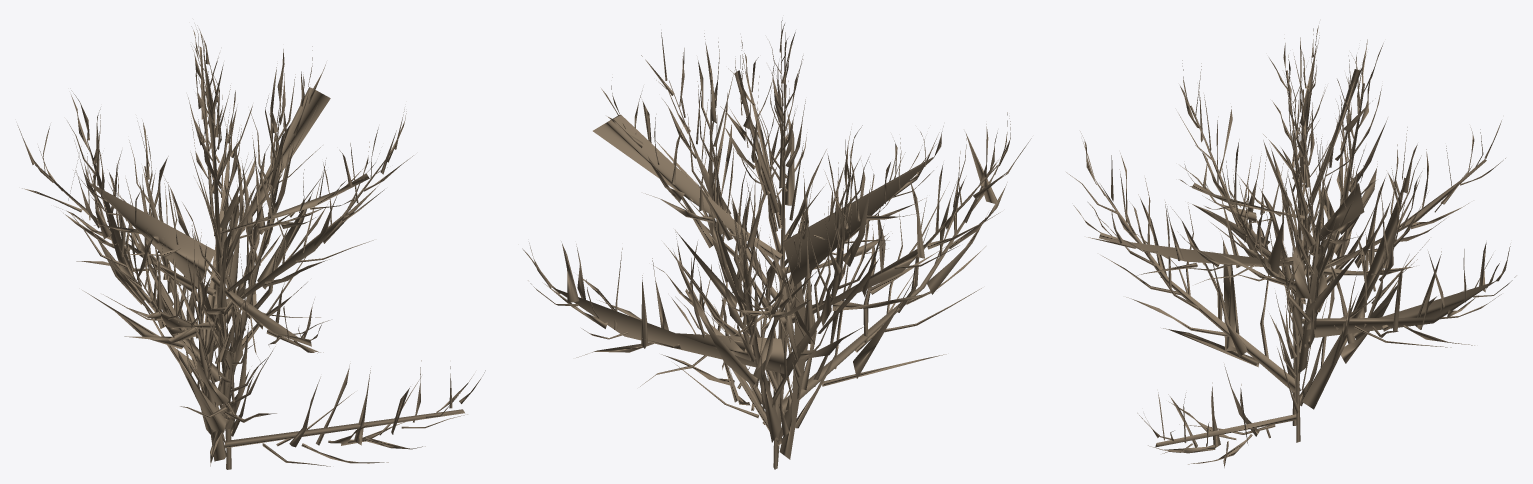
Rendered from Oak_02_LOD1.fbx.
3 renders of one model, left to right at view 1: azimuth 30°, elevation 25°; view 2: azimuth 150°, elevation 25°; view 3: azimuth 270°, elevation 25°, orthographic. The views are drawn at different scales.
Visible parts, largest first — view 1: Oak; view 2: Oak; view 3: Oak.
Boxes of the visible parts, left/top/right/bottom form: Oak: left=17, top=25, right=485, bottom=469; Oak: left=522, top=20, right=1031, bottom=469; Oak: left=1066, top=25, right=1516, bottom=467.
Size of the model in its own units: 503 by 592 by 585.
